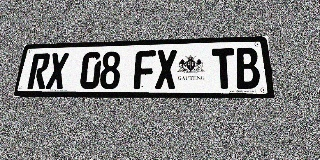0: (79, 52, 102, 89)
8: (99, 51, 122, 89)
B: (234, 47, 261, 89)
F: (133, 50, 156, 89)
R: (27, 53, 51, 89)
T: (212, 48, 236, 89)
X: (45, 53, 69, 89), (155, 50, 177, 89)
